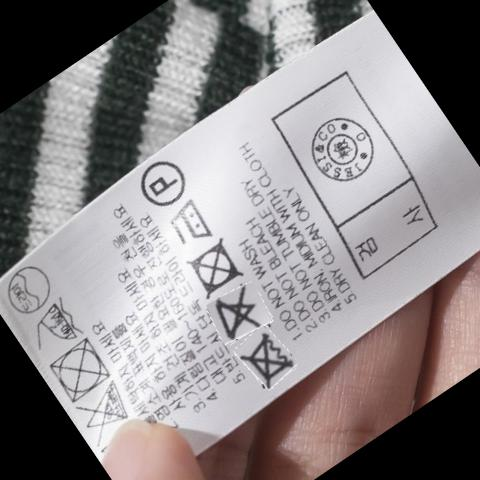DN_bleach: (215, 287, 265, 339)
DN_tumble_dry: (187, 243, 241, 291)
DN_wash: (246, 337, 297, 386)
dry_clean_any_solvent_except_trichloroethylene: (142, 155, 190, 206)
iron_medium: (170, 200, 214, 245)
